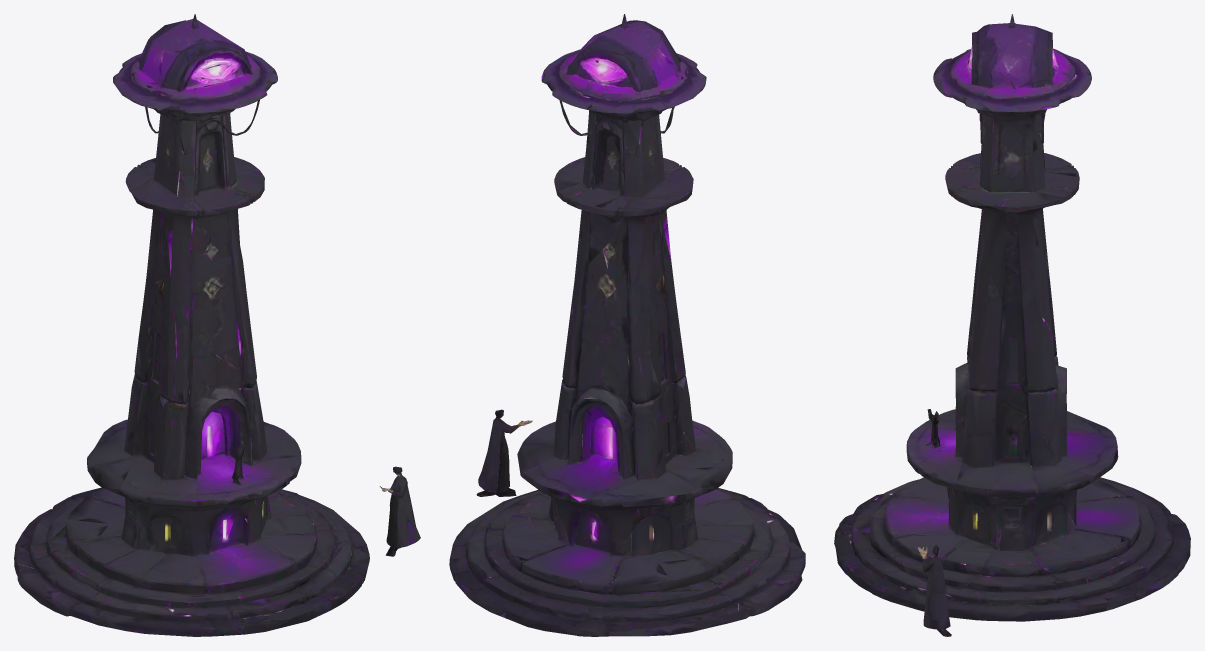
File: bld-neon-observatory-lod1.glb
3 views of the same model, side by side, from view 1: azimuth 30°, elevation 25°; view 2: azimuth 150°, elevation 25°; view 3: azimuth 270°, elevation 25° (orthographic). The views are drawn at different scales.
Parts seen in each view (by area): view 1: Mesh_0; view 2: Mesh_0; view 3: Mesh_0.
Part boxes in pixels (left/top/right/bottom): Mesh_0: left=14, top=14, right=420, bottom=636; Mesh_0: left=449, top=14, right=805, bottom=636; Mesh_0: left=834, top=14, right=1190, bottom=636.
Size of the model in its own units: 1.25 by 1.9 by 1.14.
1 material, 1 textured.
